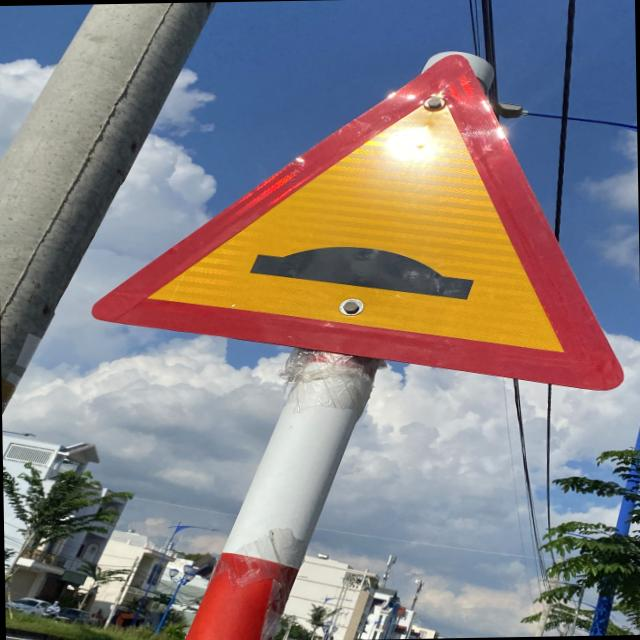Duong_Cong_Ben_Phai: (87, 48, 622, 396)
